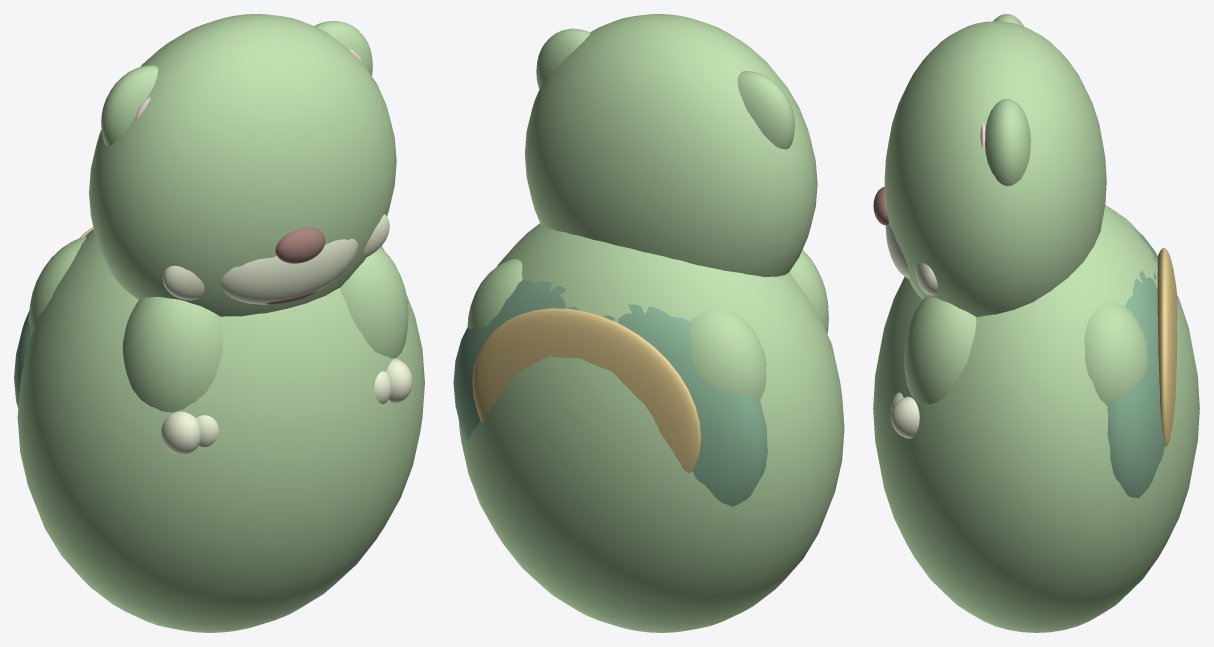
Rendered from turtle.gltf.
3 renders of one model, left to right at view 1: azimuth 30°, elevation 25°; view 2: azimuth 150°, elevation 25°; view 3: azimuth 270°, elevation 25°, orthographic. The views are drawn at different scales.
Visible parts, largest first — view 1: Body, Head, PawFront (×2), Muzzle, Ear (×2), Toe (×2), PawBack, Nose, Cheek, Shell; view 2: Body, Head, Shell, ShellCenter, PawBack (×2), Ear (×2), PawFront; view 3: Body, Head, Shell, PawFront, PawBack, ShellCenter, Ear, Toe, Muzzle, Cheek.
Part boxes in pixels (x1,y1,x2,y2): Body: (17, 229, 424, 632); Head: (89, 14, 396, 316); PawFront (×2): (122, 247, 408, 412); Muzzle: (221, 238, 357, 304); Ear (×2): (101, 21, 372, 146); Toe (×2): (161, 359, 412, 454); PawBack: (28, 236, 86, 333); Nose: (275, 227, 325, 263); Cheek: (162, 265, 204, 300); Shell: (14, 230, 92, 408); Body: (458, 223, 844, 632); Head: (524, 14, 817, 276); Shell: (453, 280, 767, 506); ShellCenter: (472, 308, 701, 472); PawBack (×2): (467, 258, 766, 400); Ear (×2): (536, 28, 794, 149); PawFront: (789, 249, 828, 333); Body: (873, 205, 1199, 632); Head: (884, 21, 1106, 316); Shell: (1107, 228, 1164, 498); PawFront: (904, 296, 976, 404); PawBack: (1084, 302, 1148, 405); ShellCenter: (1157, 248, 1177, 447); Ear: (985, 99, 1030, 185); Toe: (891, 396, 919, 438); Muzzle: (885, 223, 909, 278); Cheek: (915, 263, 938, 295).
Size of the model in its own units: 1.34 by 2.12 by 1.08.
